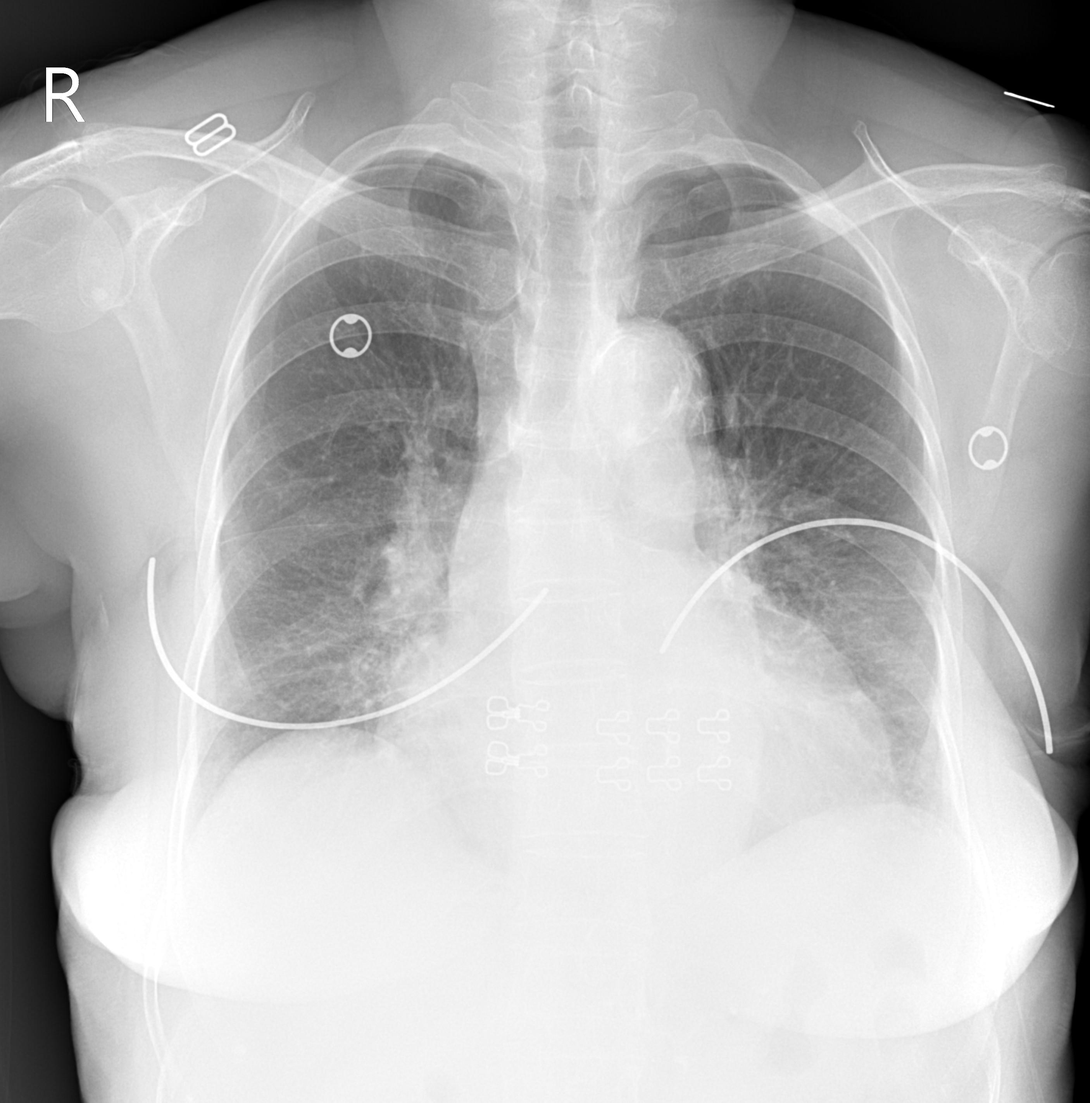Aortic enlargement: (573, 314, 701, 449)
Cardiomegaly: (438, 611, 913, 844)
Pleural thickening: (357, 140, 489, 179), (655, 160, 733, 183)
